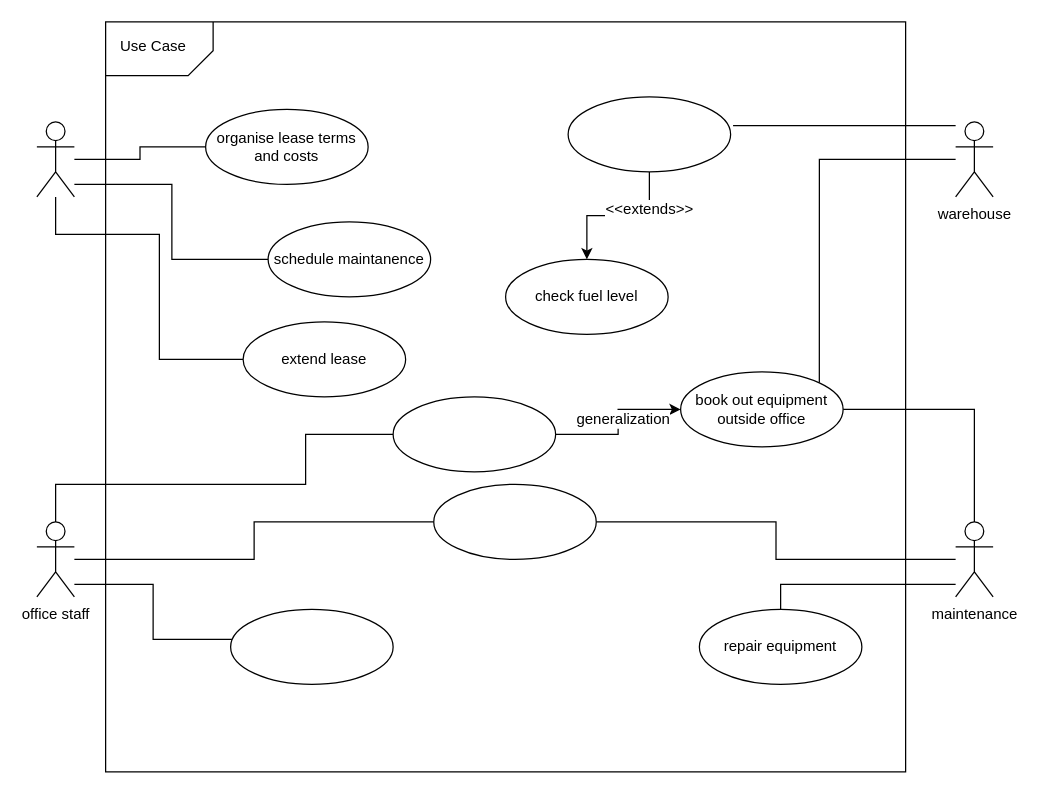
The diagram is 1039 pixels wide and 794 high, and some of its shapes have lost their labels. Each missing label, with the centre of its shape:
book out equipment: the point at 474,434
check jobs to complete: the point at 514,521
Manager: the point at 55,159
provide information to customer: the point at 311,646
return equipment: the point at 649,134
